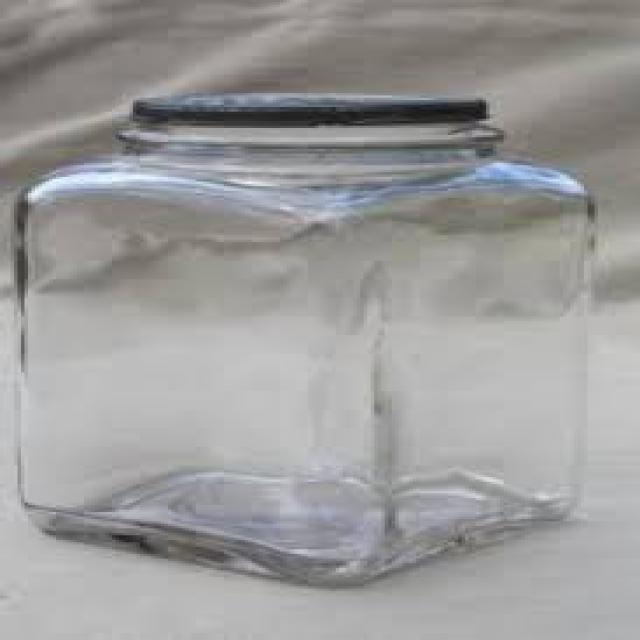glass: (14, 114, 591, 589)
metal: (126, 89, 483, 126)
